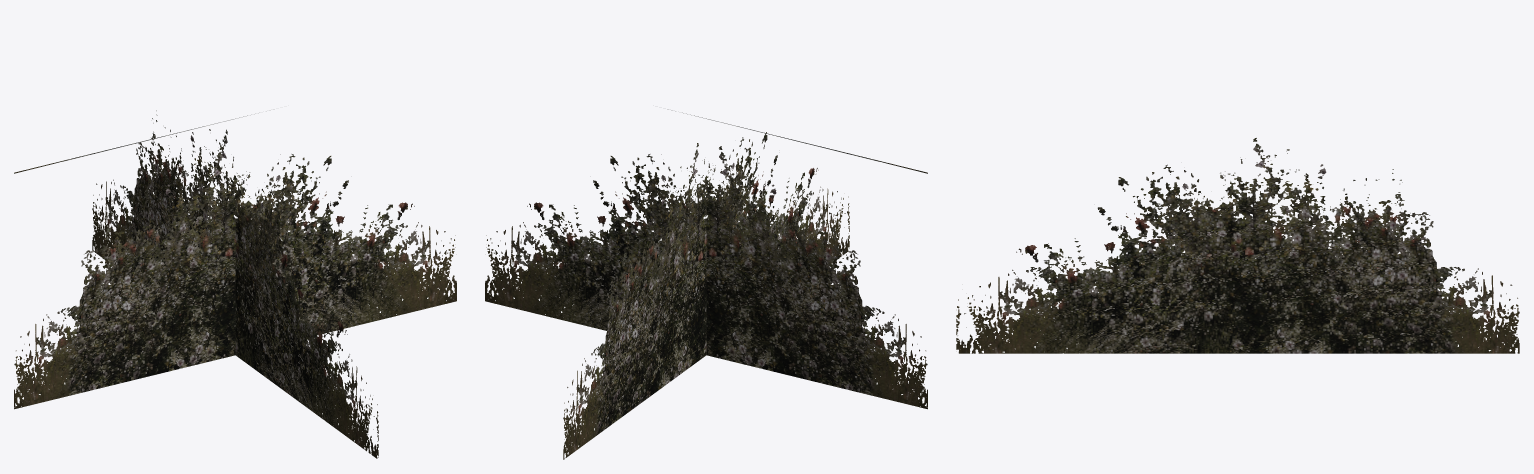
The model's file is bushPlant.fbx.
The picture shows the model from 3 angles, left to right: view 1: azimuth 30°, elevation 25°; view 2: azimuth 150°, elevation 25°; view 3: azimuth 270°, elevation 25°; orthographic projection.
Visible parts, largest first — view 1: Plane.001; view 2: Plane.001; view 3: Plane.001.
Part boxes in pixels (left/top/right/bottom): Plane.001: left=14, top=109, right=456, bottom=458; Plane.001: left=485, top=109, right=927, bottom=459; Plane.001: left=956, top=138, right=1519, bottom=353.
Bounding box in the file's own units: 424 × 216 × 474.
